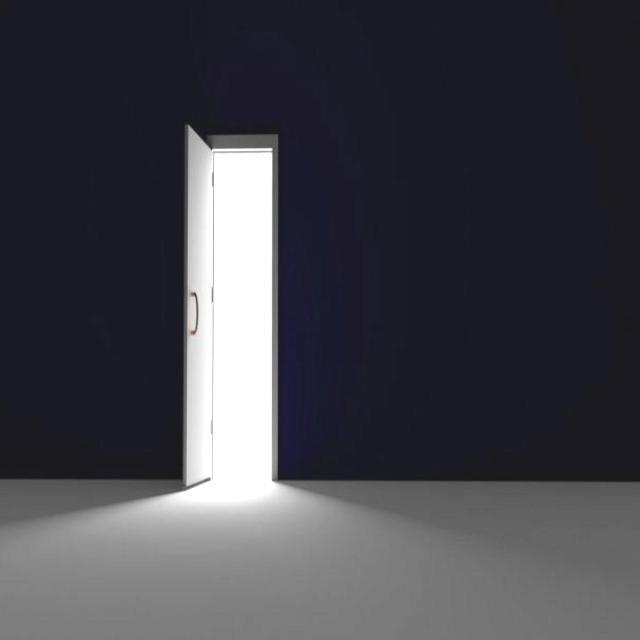door: (176, 117, 216, 497)
